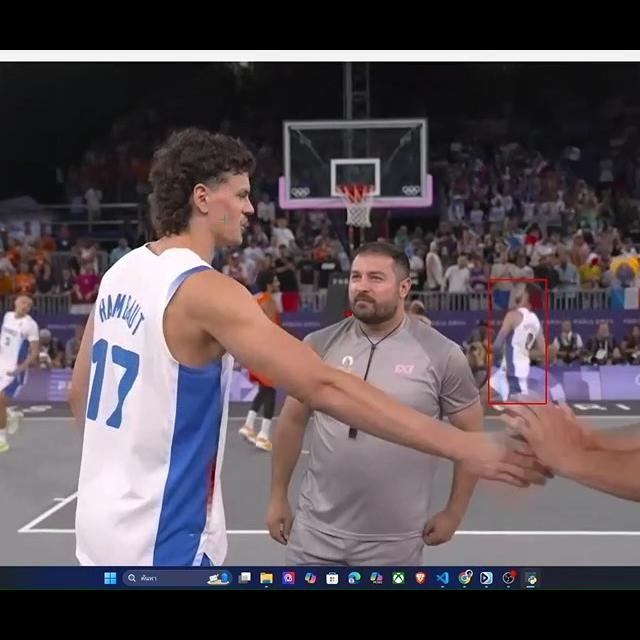hoop: (338, 182, 375, 224)
